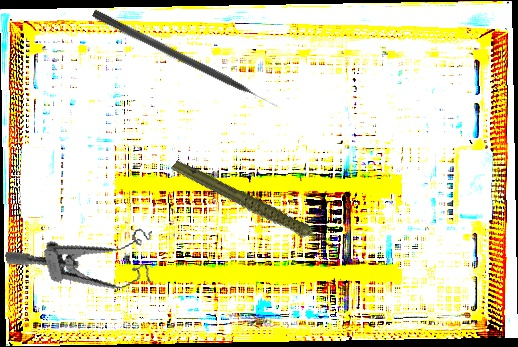Handpiece: (169, 131, 334, 283)
Pusher: (90, 8, 280, 113)
Speculum: (4, 217, 164, 315)
